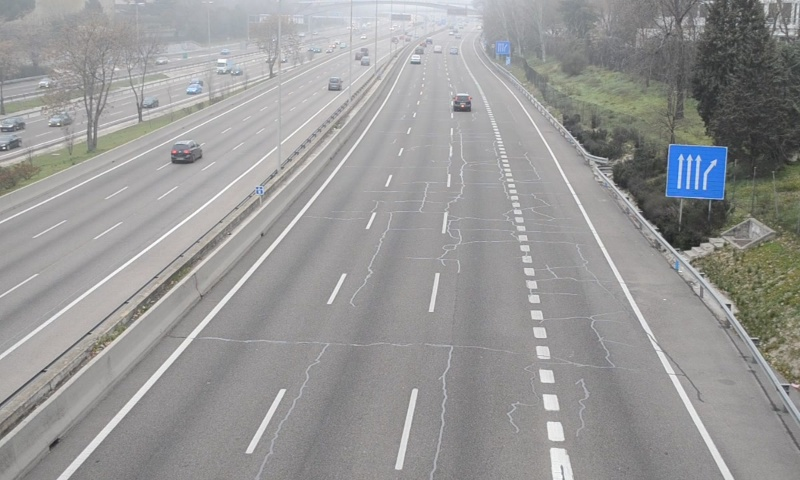car: (453, 92, 471, 111)
